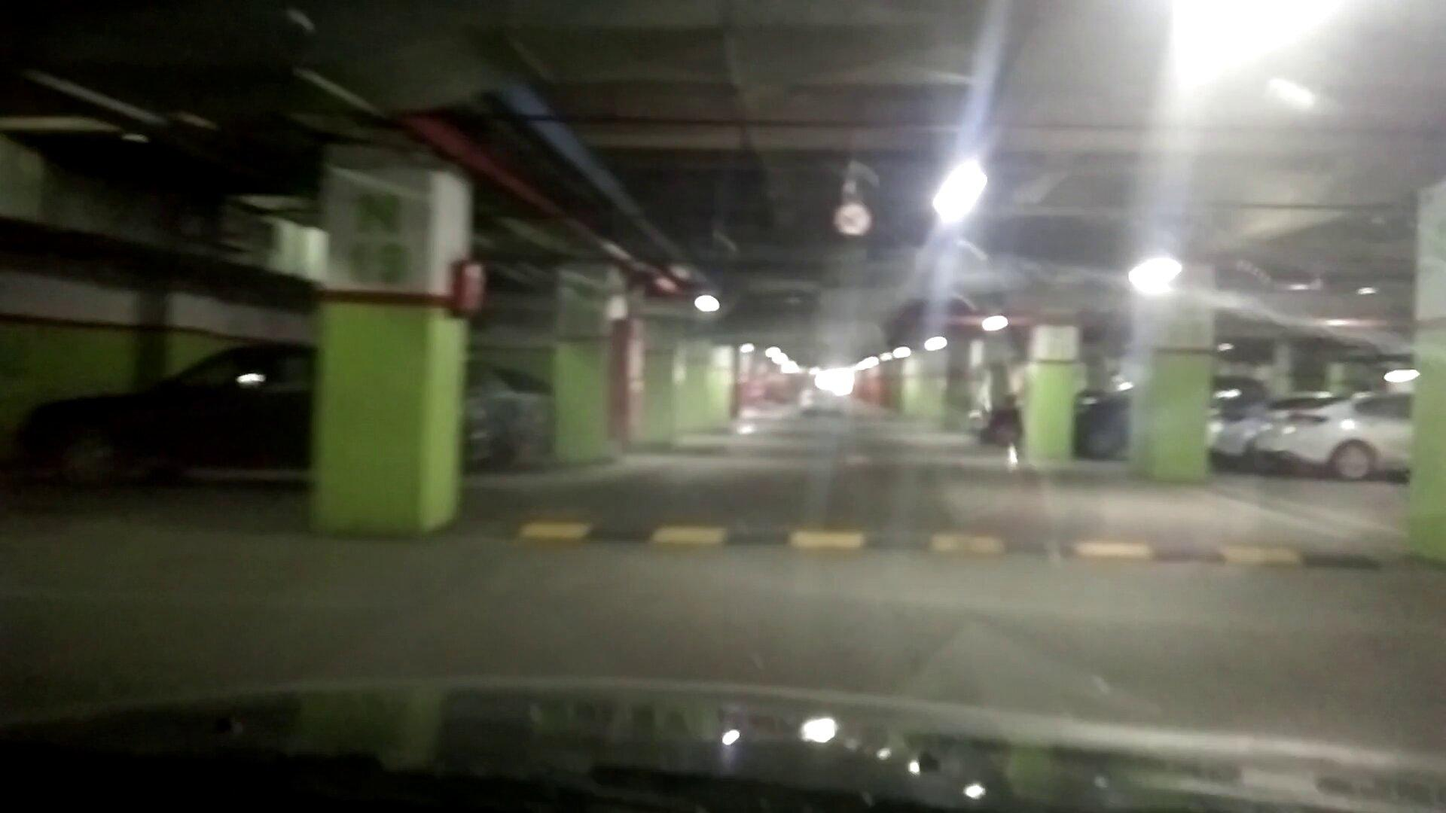Bump: (482, 506, 1431, 578)
